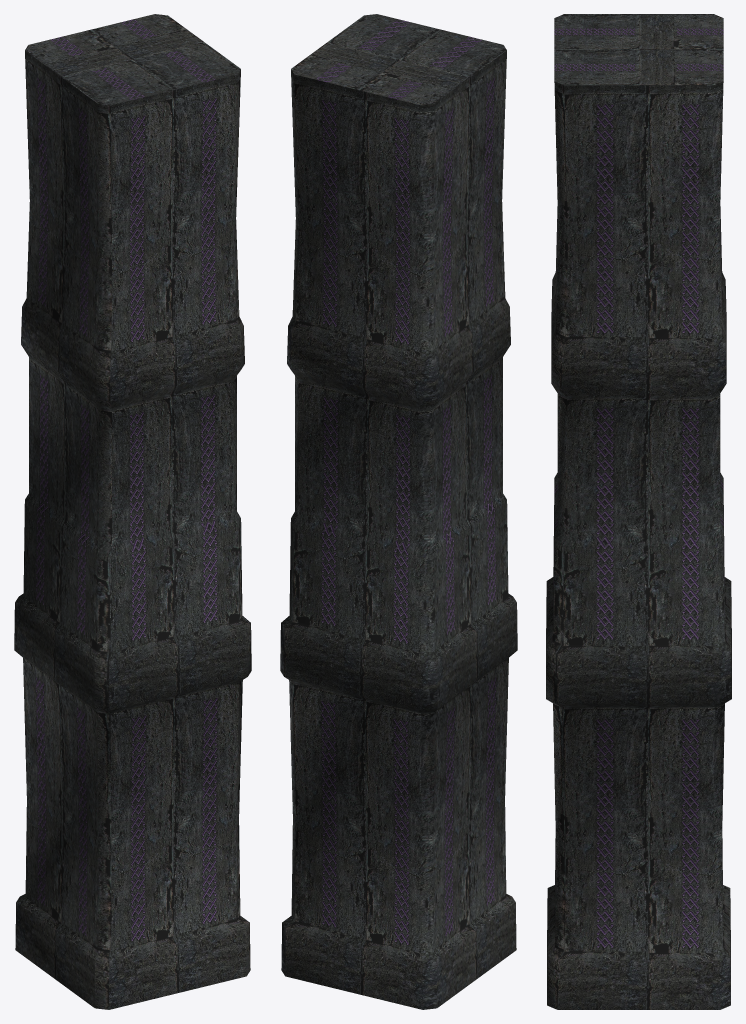
File: pilardark.fbx
The picture shows the model from 3 angles, left to right: view 1: azimuth 30°, elevation 25°; view 2: azimuth 150°, elevation 25°; view 3: azimuth 270°, elevation 25°; orthographic projection. The views are drawn at different scales.
Visible parts, largest first — view 1: Mesh Object; view 2: Mesh Object; view 3: Mesh Object.
Boxes of the visible parts, x1,y1,x2,y2 form: Mesh Object: [14, 14, 251, 1009]; Mesh Object: [280, 14, 517, 1009]; Mesh Object: [546, 14, 731, 1009].
Bounding box in the file's own units: 1.1 × 6.05 × 1.1.
